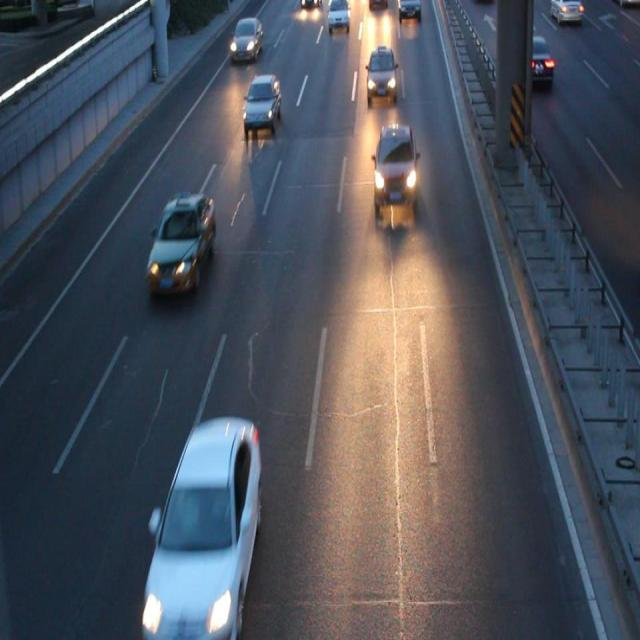car: (146, 421, 260, 624), (149, 194, 214, 293), (373, 126, 416, 206), (242, 75, 280, 126), (511, 35, 552, 82), (366, 48, 395, 98), (229, 19, 262, 59), (548, 1, 580, 24), (327, 1, 349, 29), (398, 1, 419, 19), (367, 1, 386, 8)
